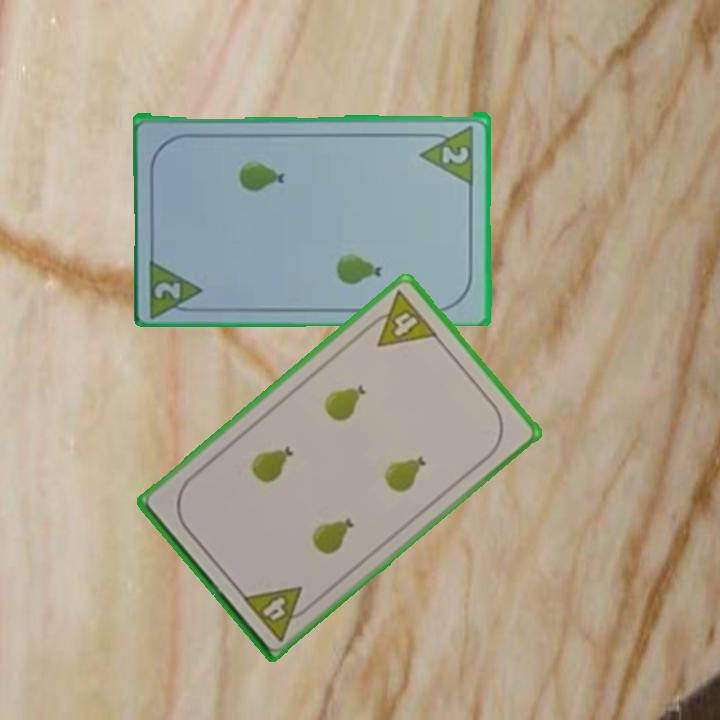2p: (146, 252, 207, 317), (439, 142, 472, 166)
4p: (360, 287, 441, 350), (238, 582, 317, 644)
